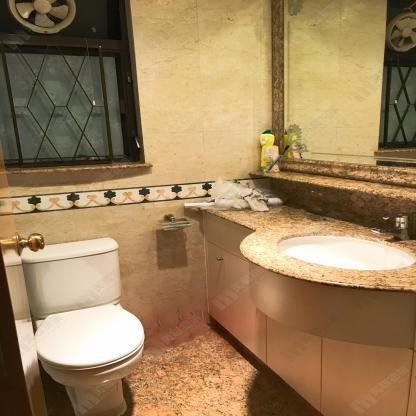Exhaust Fan: (5, 0, 83, 34)
Faucet: (368, 209, 415, 243)
Toilet: (22, 237, 150, 416)
Toilet Sink: (243, 219, 416, 290)
